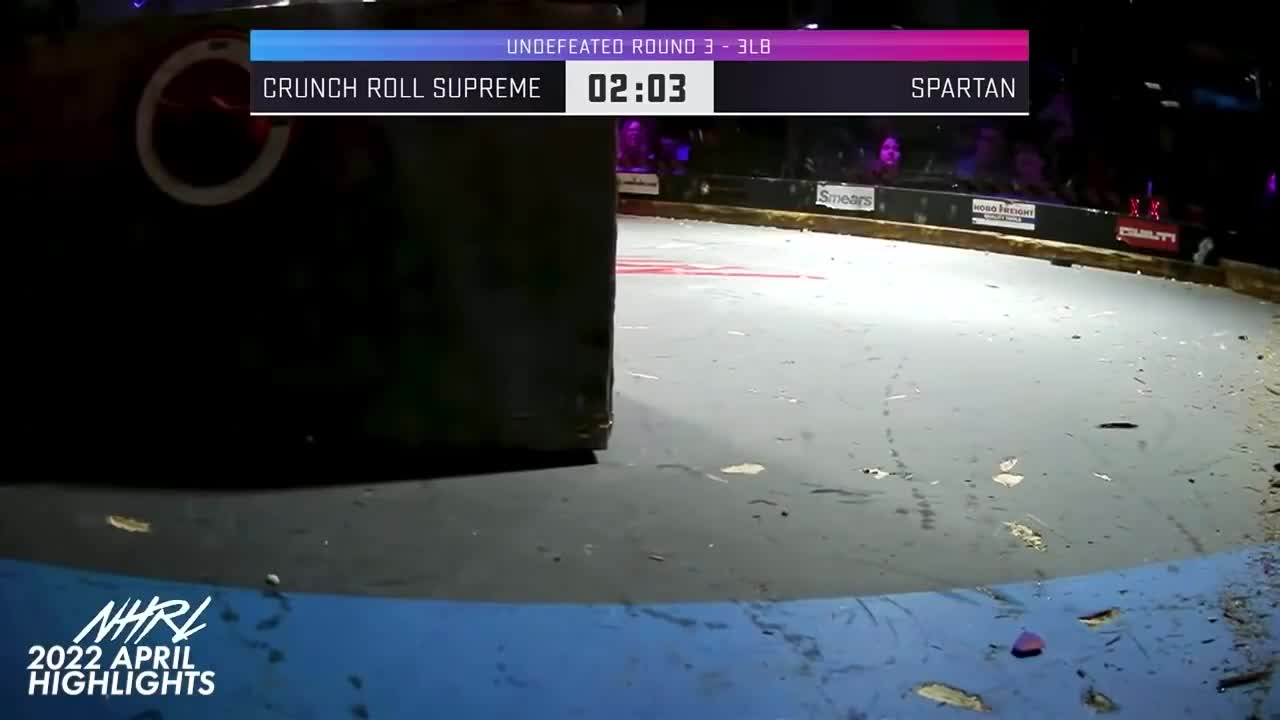housebot: (0, 0, 620, 451)
